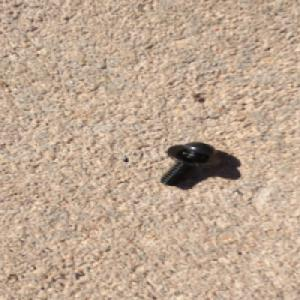BoltWasher: (157, 140, 223, 187)
